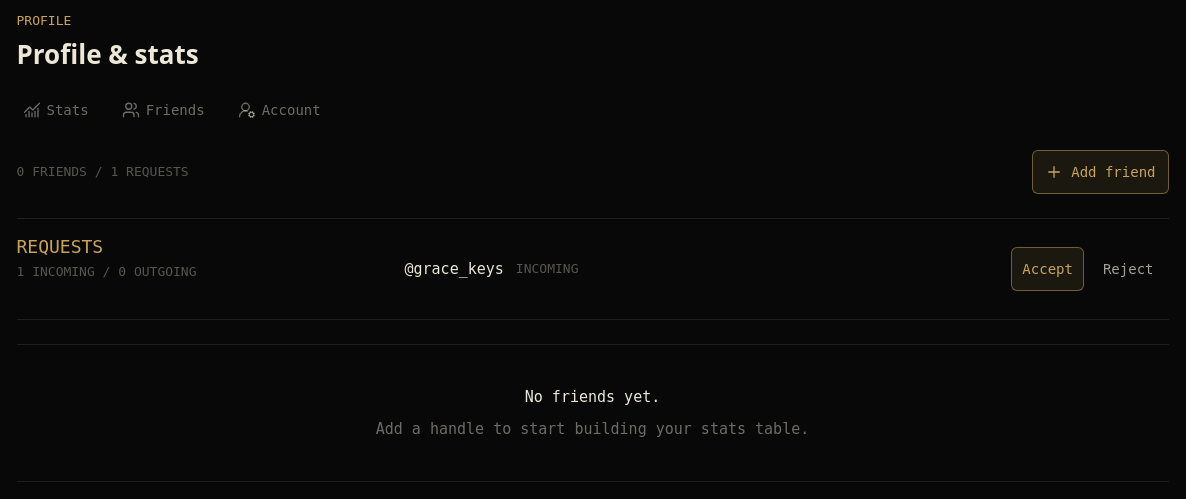
Profile friends page › accepts incoming friend requests and refreshes lists
Check: the link "@grace_keys" is shown, box [404,257,504,281]
Click the button with aria-label "Accept request @grace_keys": (1048, 269) [1011,247,1084,291]
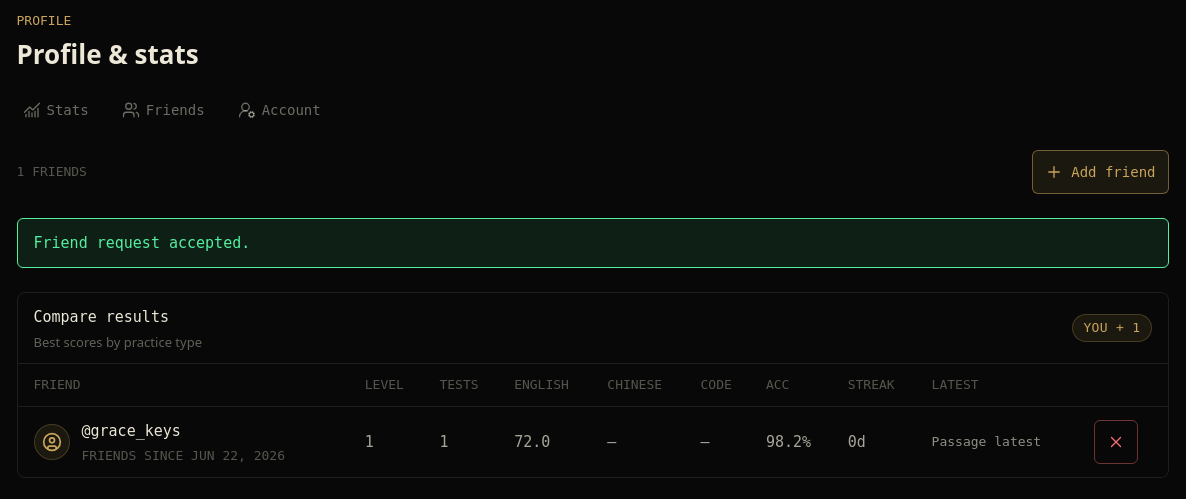
Check: the text "Friend request accepted." is shown, box [16,218,1168,268]
